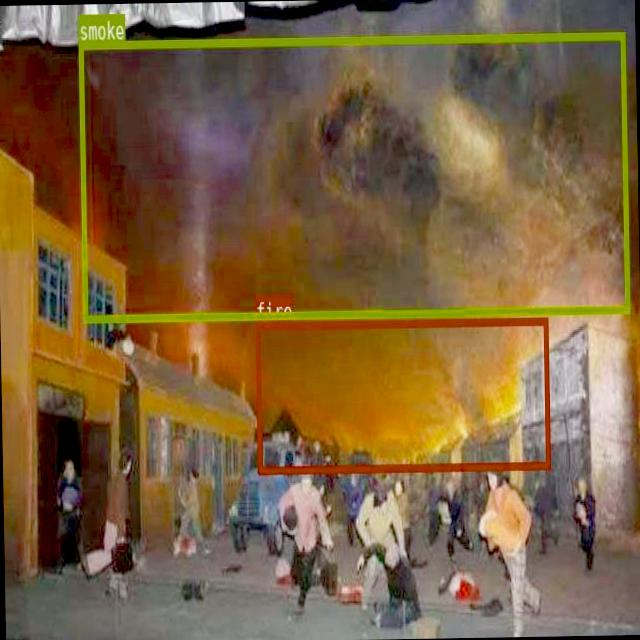fire: (255, 315, 550, 472)
smoke: (78, 31, 628, 320)
